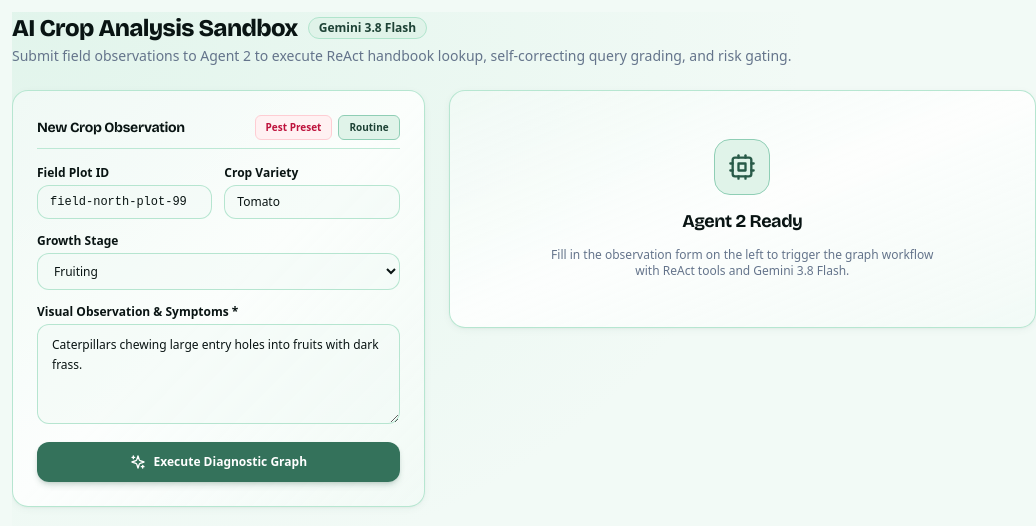
Test: CropAnalysisView Component (Form Validation & Quick-Fill Presets) › updates form fields when Pest Preset is clicked
Click the button "Pest Preset" at (294, 128), box [255, 115, 332, 140]
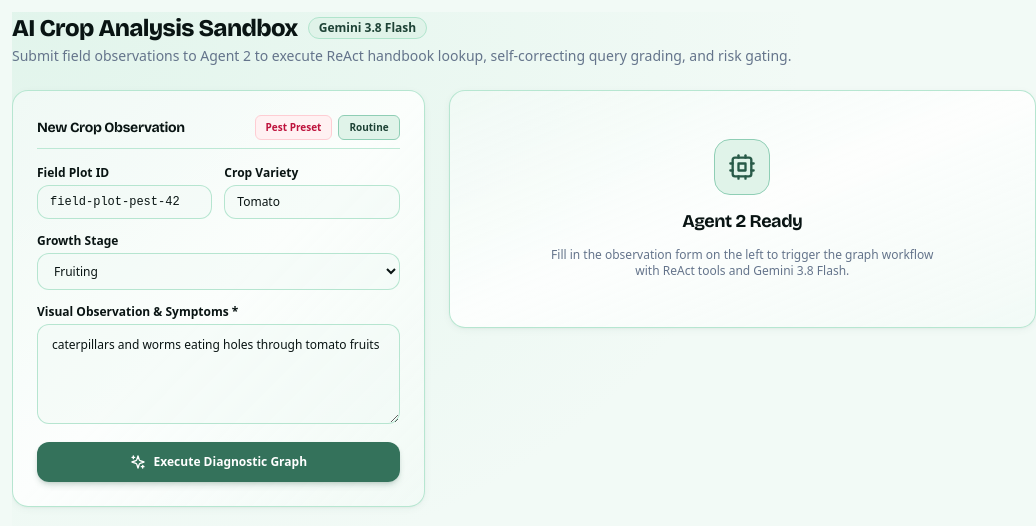
Expected: the text box showing "caterpillars and worms eating holes through tomato fruits" is shown, [37, 324, 400, 424]
Expected: the field showing "field-plot-pest-42" below "Field Plot ID" is shown, [37, 185, 212, 219]
